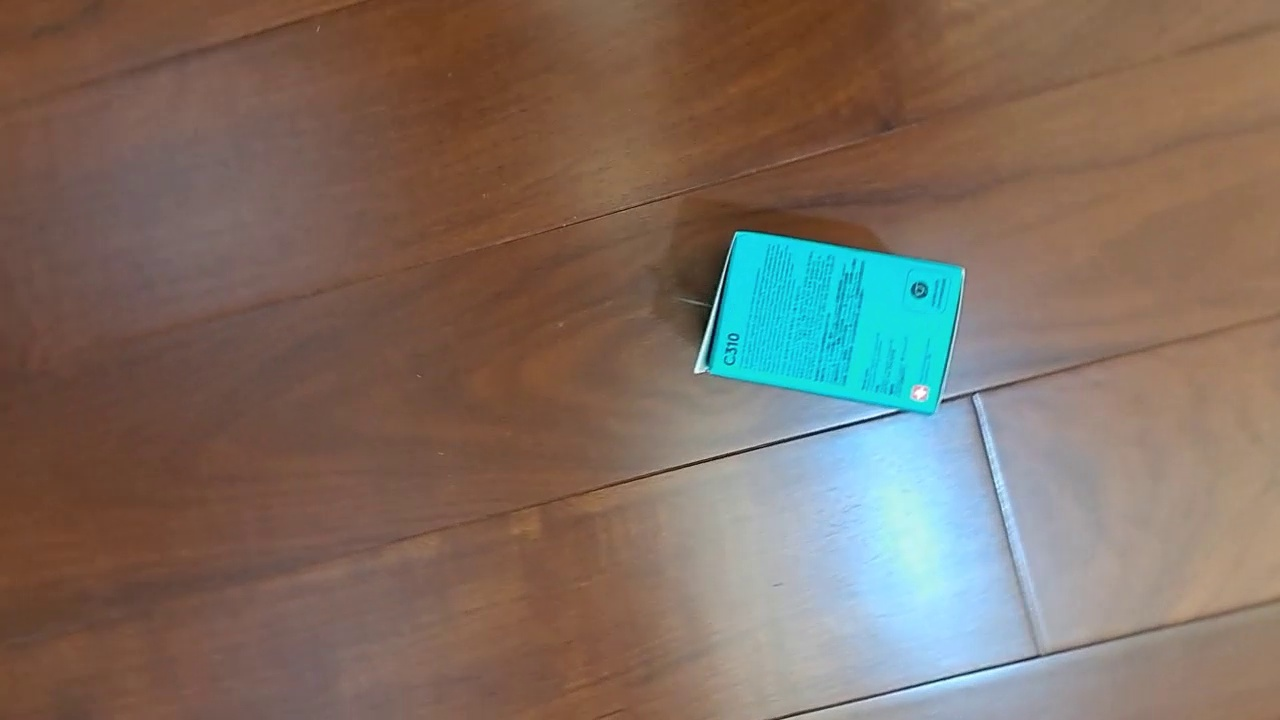webcam: (693, 229, 967, 416)
